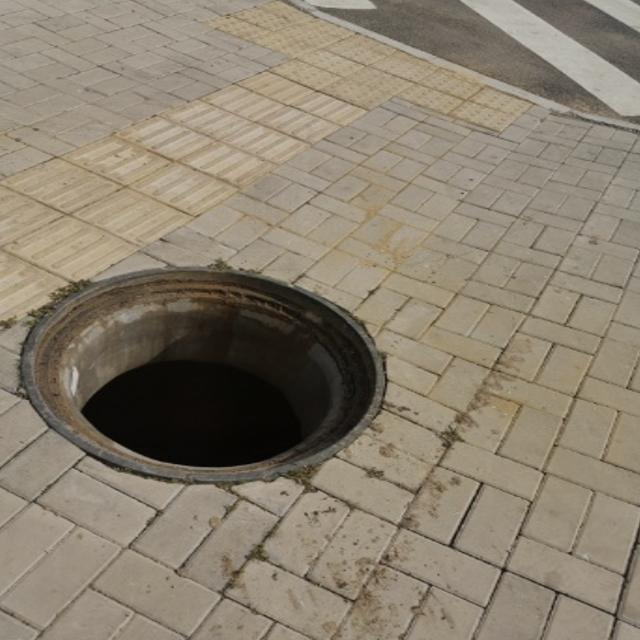lose: (17, 265, 386, 484)
